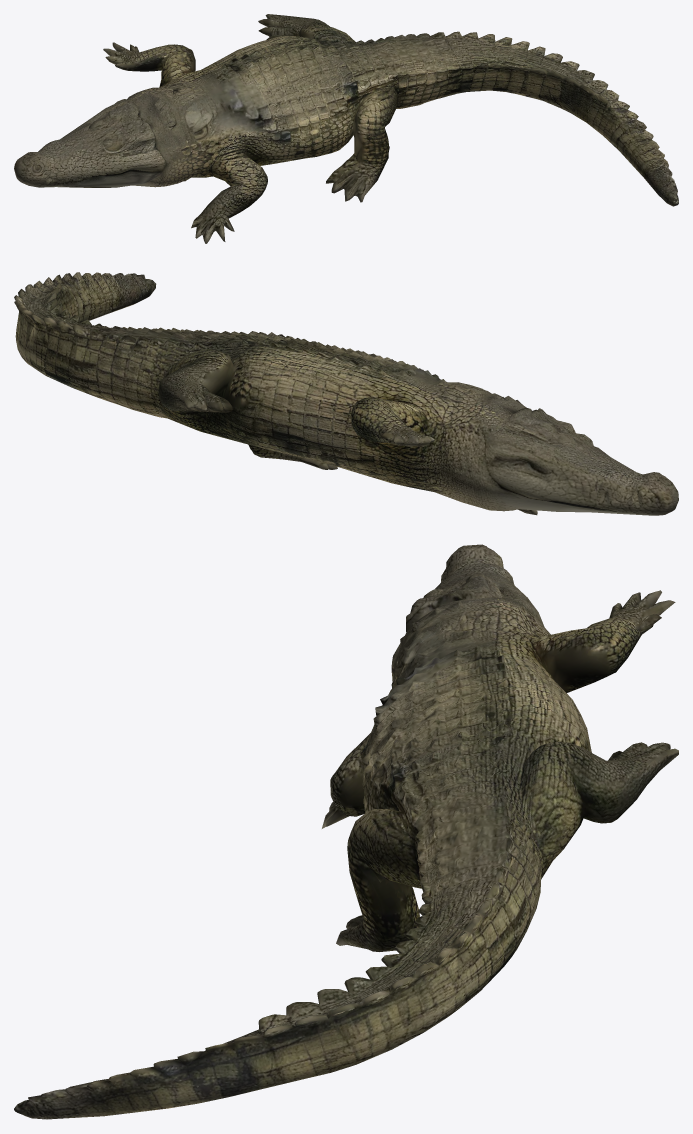
File: crocodile.glb
3 views of the same model, one above another, from view 1: azimuth 30°, elevation 25°; view 2: azimuth 150°, elevation 25°; view 3: azimuth 270°, elevation 25° (orthographic). The views are drawn at different scales.
Parts seen in each view (by area): view 1: node_0; view 2: node_0; view 3: node_0.
Part boxes in pixels (<box>): node_0: <box>14,14,678,243</box>; node_0: <box>14,272,678,515</box>; node_0: <box>14,544,678,1119</box>.
Size of the model in its own units: 1.06 by 0.2458 by 0.6474.
Materials: 1 (1 with a texture image).
